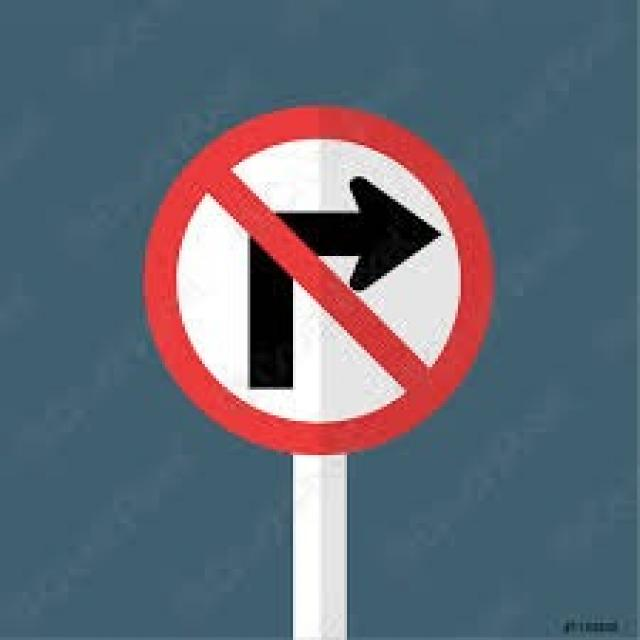do_not_turn_right: (140, 102, 501, 466)
